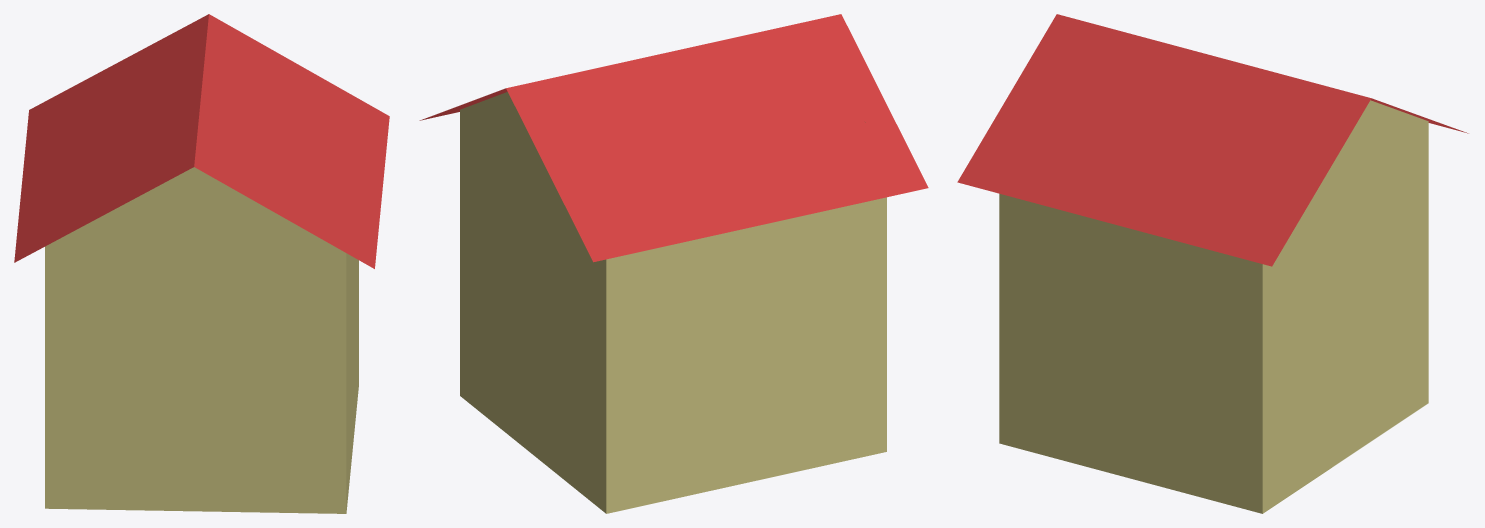
The picture shows the model from 3 angles, left to right: view 1: azimuth 30°, elevation 25°; view 2: azimuth 150°, elevation 25°; view 3: azimuth 270°, elevation 25°; orthographic projection. The views are drawn at different scales.
Bounding box in the file's own units: 16.83 × 16.84 × 13.29.
